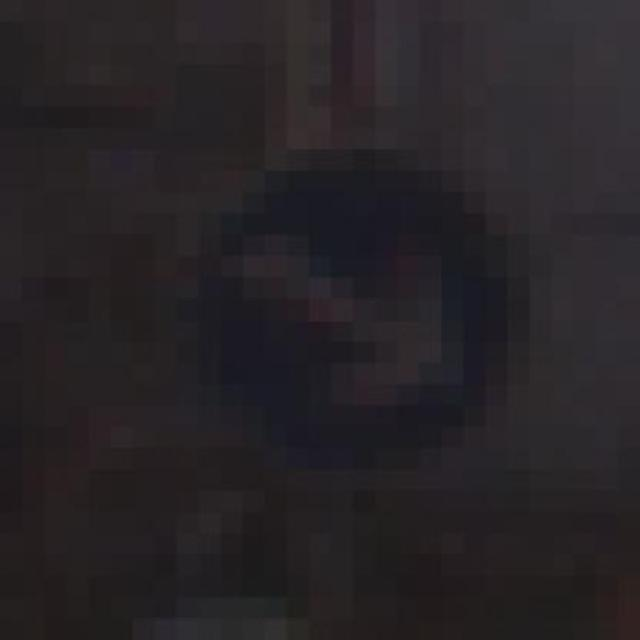Keep-Right: (176, 149, 530, 491)
